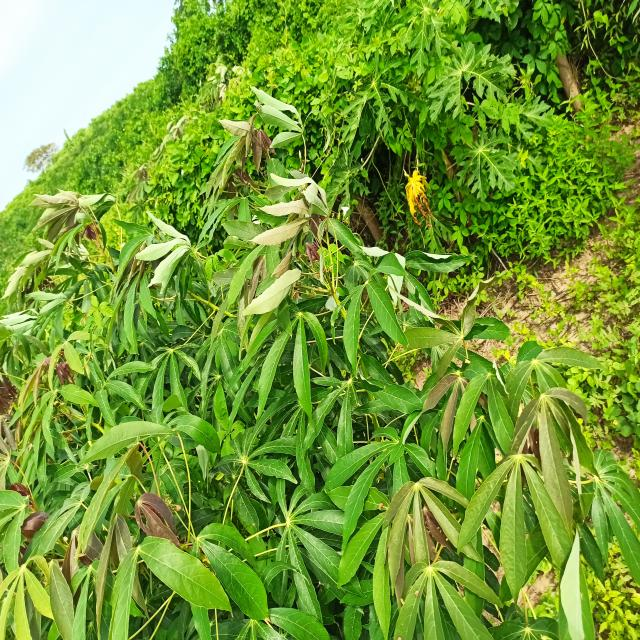Maleza: (313, 9, 633, 160), (466, 108, 638, 276), (108, 95, 200, 205), (583, 217, 640, 337), (597, 583, 640, 640), (89, 296, 107, 321)
Mosaico: (134, 488, 174, 539), (404, 174, 435, 221)
